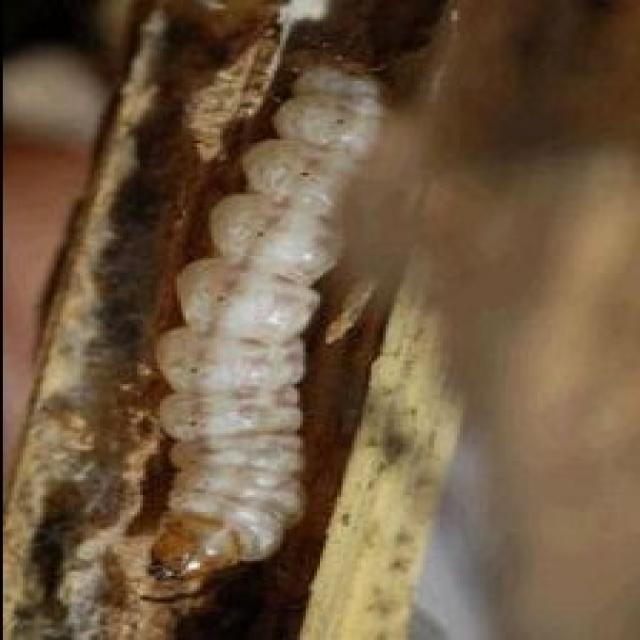peach borer: (134, 58, 388, 597)
